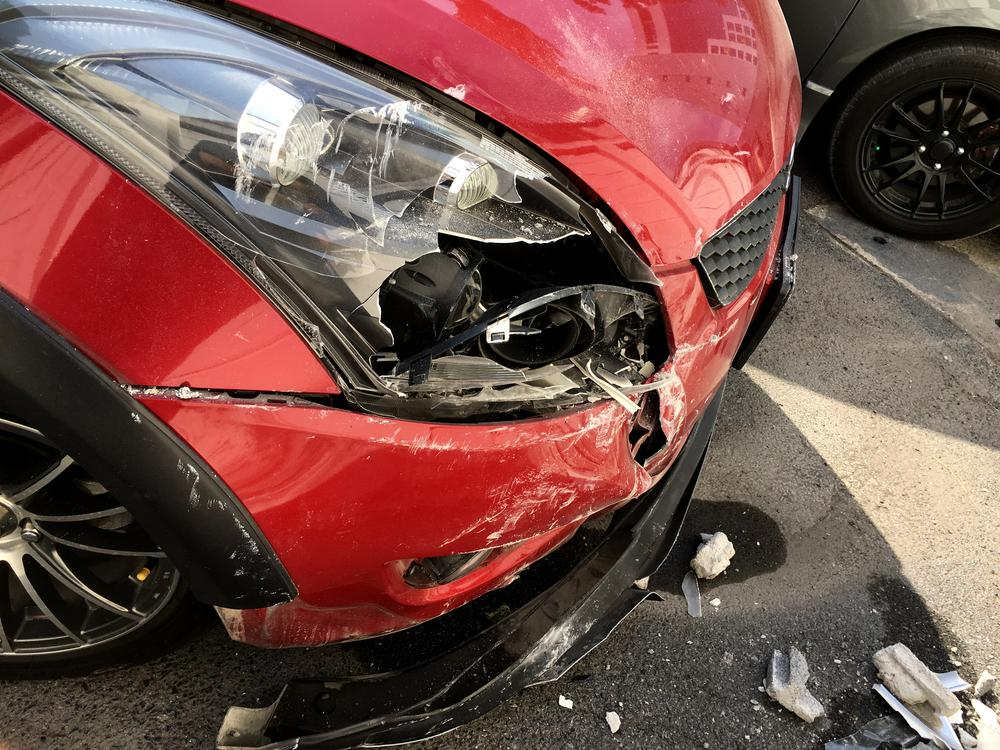lamp broken: (0, 0, 672, 428)
scratch: (369, 402, 649, 549), (655, 320, 748, 443)
